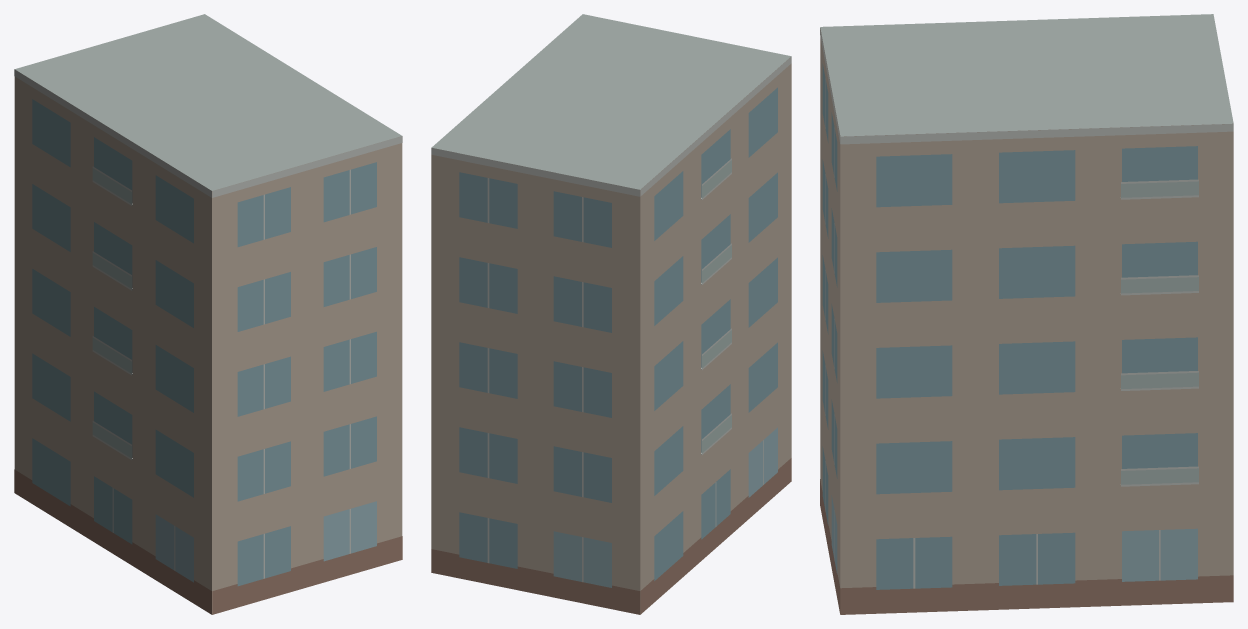
File: survey-upis-32911988.glb
3 views of the same model, side by side, from view 1: azimuth 30°, elevation 25°; view 2: azimuth 150°, elevation 25°; view 3: azimuth 270°, elevation 25° (orthographic). The views are drawn at different scales.
Parts seen in each view (by area): view 1: survey-upis-32911988.tmp; view 2: survey-upis-32911988.tmp; view 3: survey-upis-32911988.tmp.
Part boxes in pixels (x1,y1,x2,y2): survey-upis-32911988.tmp: (14, 14, 402, 614); survey-upis-32911988.tmp: (431, 14, 791, 614); survey-upis-32911988.tmp: (820, 14, 1233, 614).
Size of the model in its own units: 8.14 by 14.8 by 11.61.
